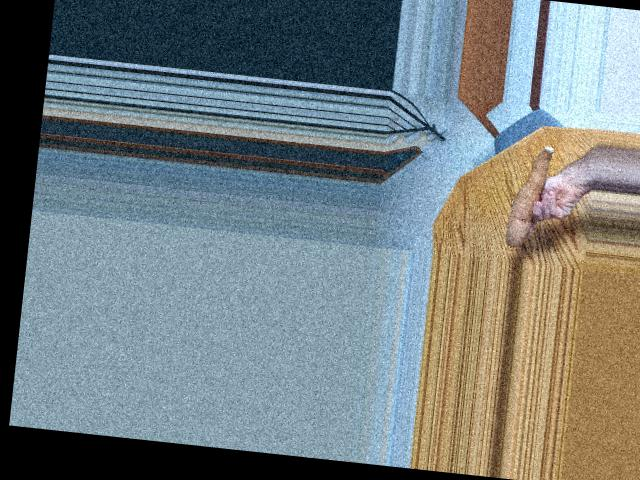sweet_potato: (502, 141, 559, 247)
